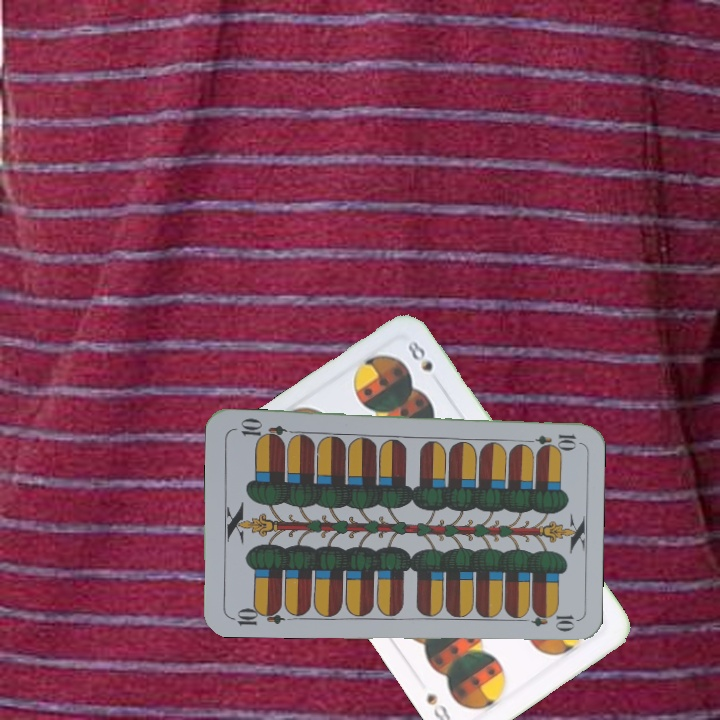E10: (227, 602, 286, 628), (520, 430, 579, 448)
